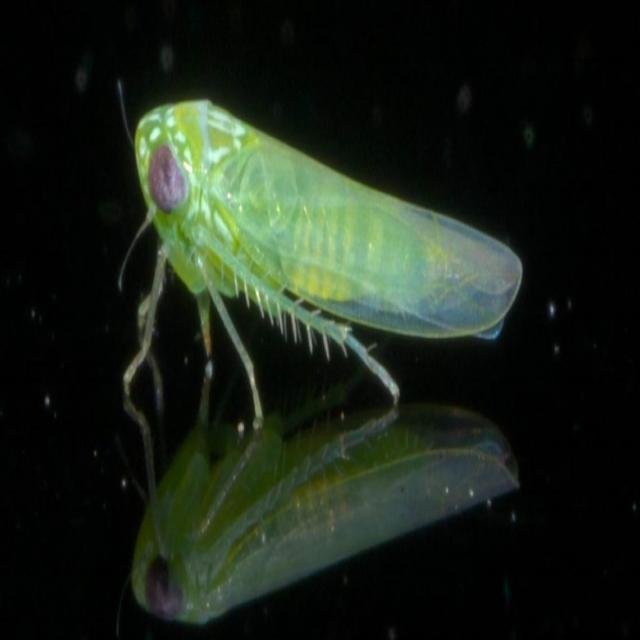Yechan: (94, 70, 532, 402)
